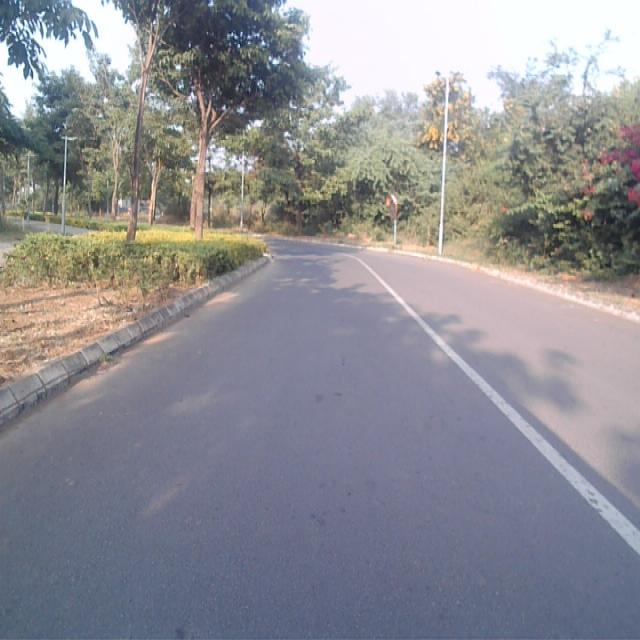lane: (1, 248, 640, 640)
